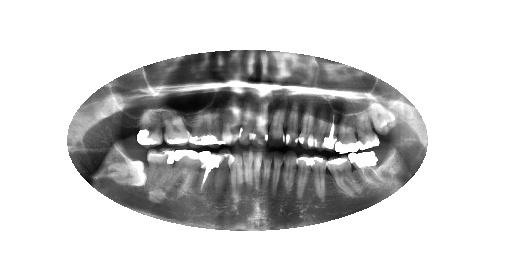i10healthy: (240, 146, 258, 204)
i11healthy: (226, 146, 246, 208)
i12healthy: (210, 150, 236, 212)
i13healthy: (193, 148, 225, 215)
i14healthy: (165, 148, 205, 203)
i15healthy: (142, 145, 175, 206)
i16healthy: (102, 157, 149, 193)
i1loss: (374, 142, 402, 176)
i2healthy: (346, 147, 387, 190)
i3healthy: (324, 155, 366, 199)
i4healthy: (306, 153, 329, 203)
i5healthy: (293, 148, 315, 207)
i6healthy: (281, 149, 299, 203)
i7healthy: (271, 149, 285, 201)
i8decay: (260, 146, 275, 208)
i9healthy: (251, 146, 264, 204)
u10healthy: (236, 94, 256, 147)
u11healthy: (222, 93, 244, 149)
u12healthy: (202, 99, 225, 152)
u13healthy: (186, 102, 208, 150)
u14healthy: (158, 102, 193, 149)
u15healthy: (133, 107, 165, 150)
u16loss: (116, 112, 144, 148)
u1healthy: (367, 98, 398, 138)
u2healthy: (349, 103, 383, 152)
u3healthy: (332, 109, 364, 156)
u4healthy: (320, 104, 339, 155)
u5healthy: (307, 105, 329, 153)
u6healthy: (296, 99, 317, 152)
u7healthy: (283, 97, 302, 149)
u8decay: (263, 93, 287, 150)
u9healthy: (248, 94, 271, 149)
